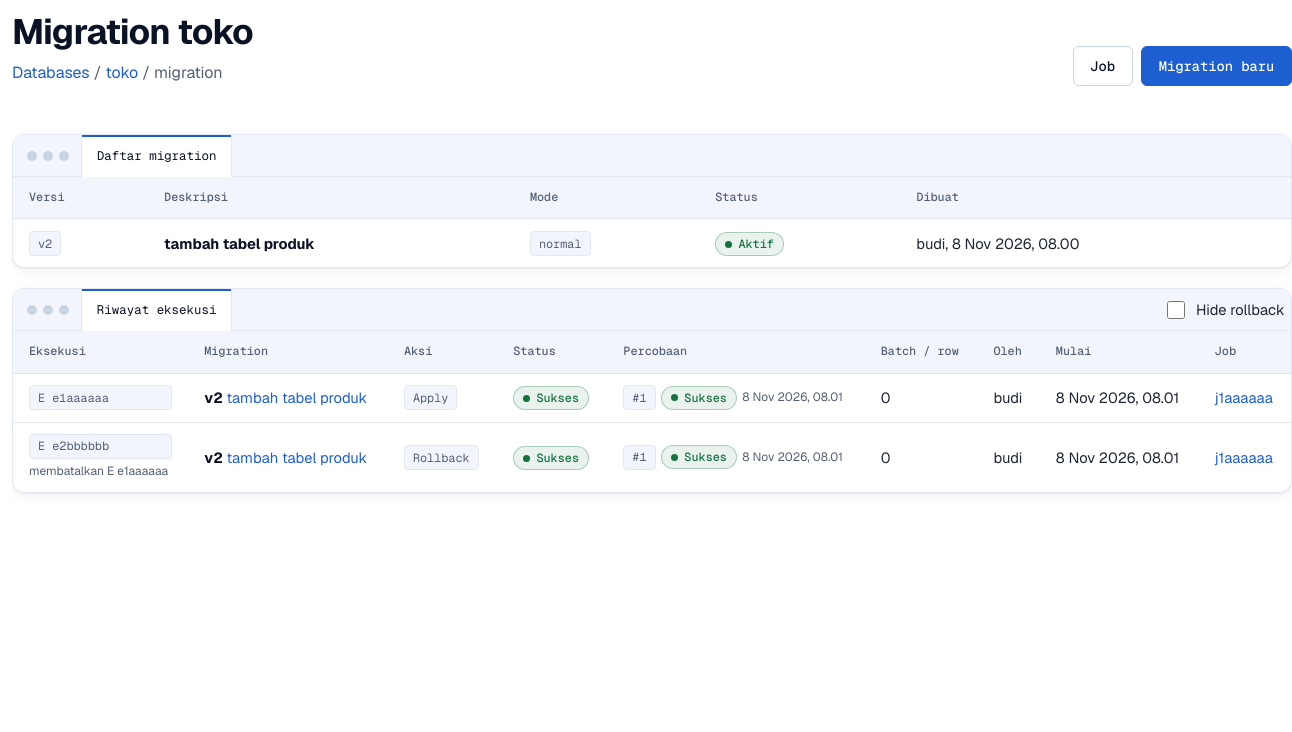
halaman migration › daftar dan riwayat, hide rollback meminta riwayat yang difilter
Expected: the link "tambah tabel produk" is shown, [164,234,315,252]
Expected: the text "membatalkan E e1aaaaaa" is shown, [29,462,172,481]
What coordinates should you click on to do the following:
click the checkbox labelled "Hide rollback"
I would click on:
 (1176, 310)
Its box is [1167,301,1185,319].
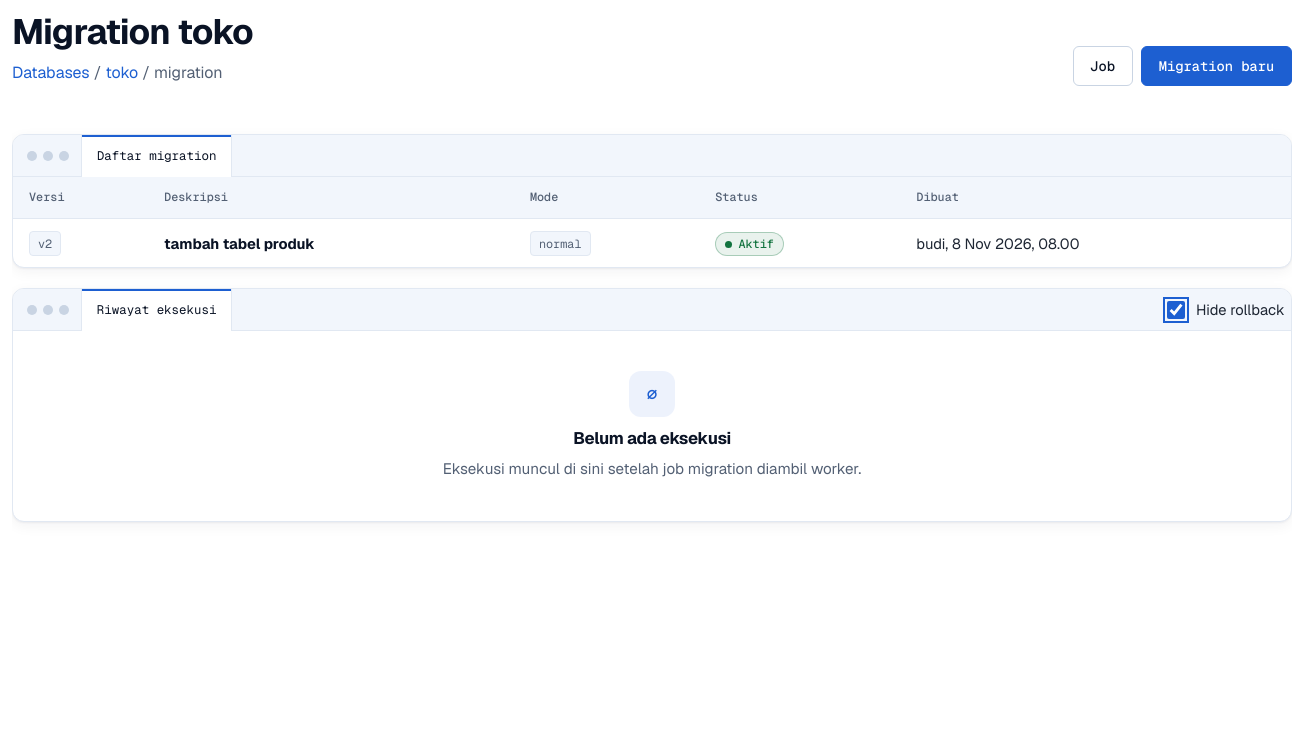
Now the heading "Belum ada eksekusi" is shown, box [573,429,731,449]
